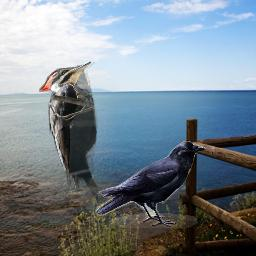Crow: (95, 141, 206, 228)
Woodpecker: (39, 61, 98, 211)
